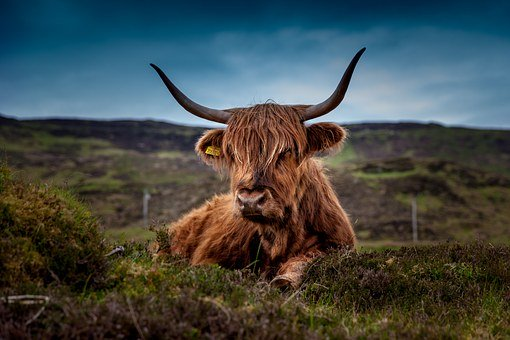cow: (161, 53, 372, 281)
field: (9, 119, 503, 340)
sky: (5, 4, 495, 115)
